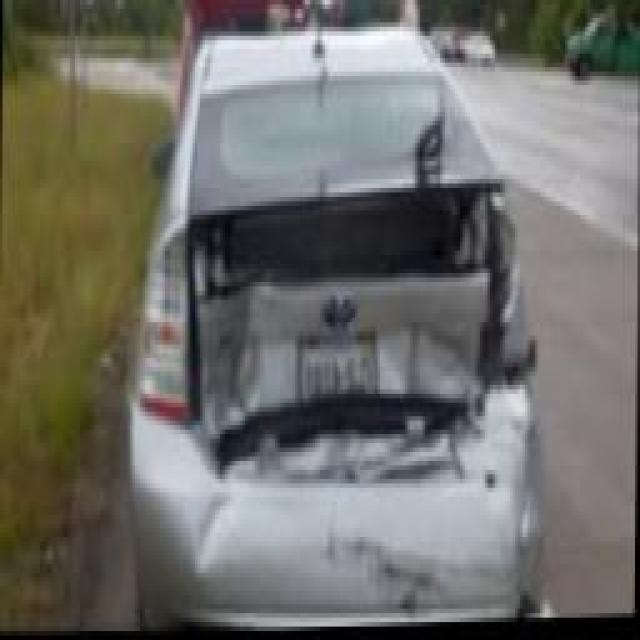Bumper: (160, 448, 528, 634)
Dickey: (195, 286, 493, 515)
